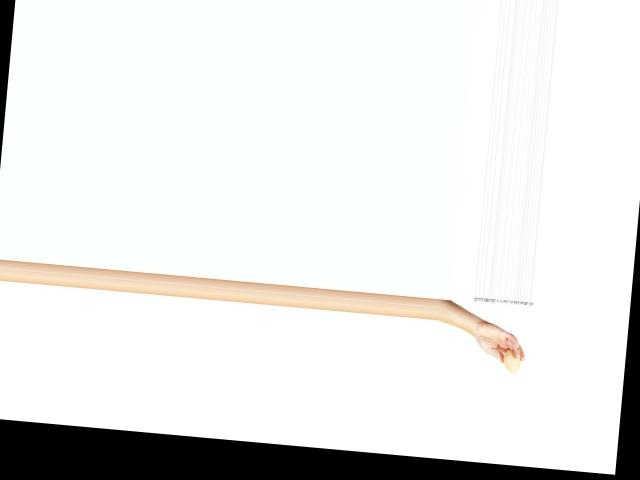egg: (501, 347, 521, 373)
